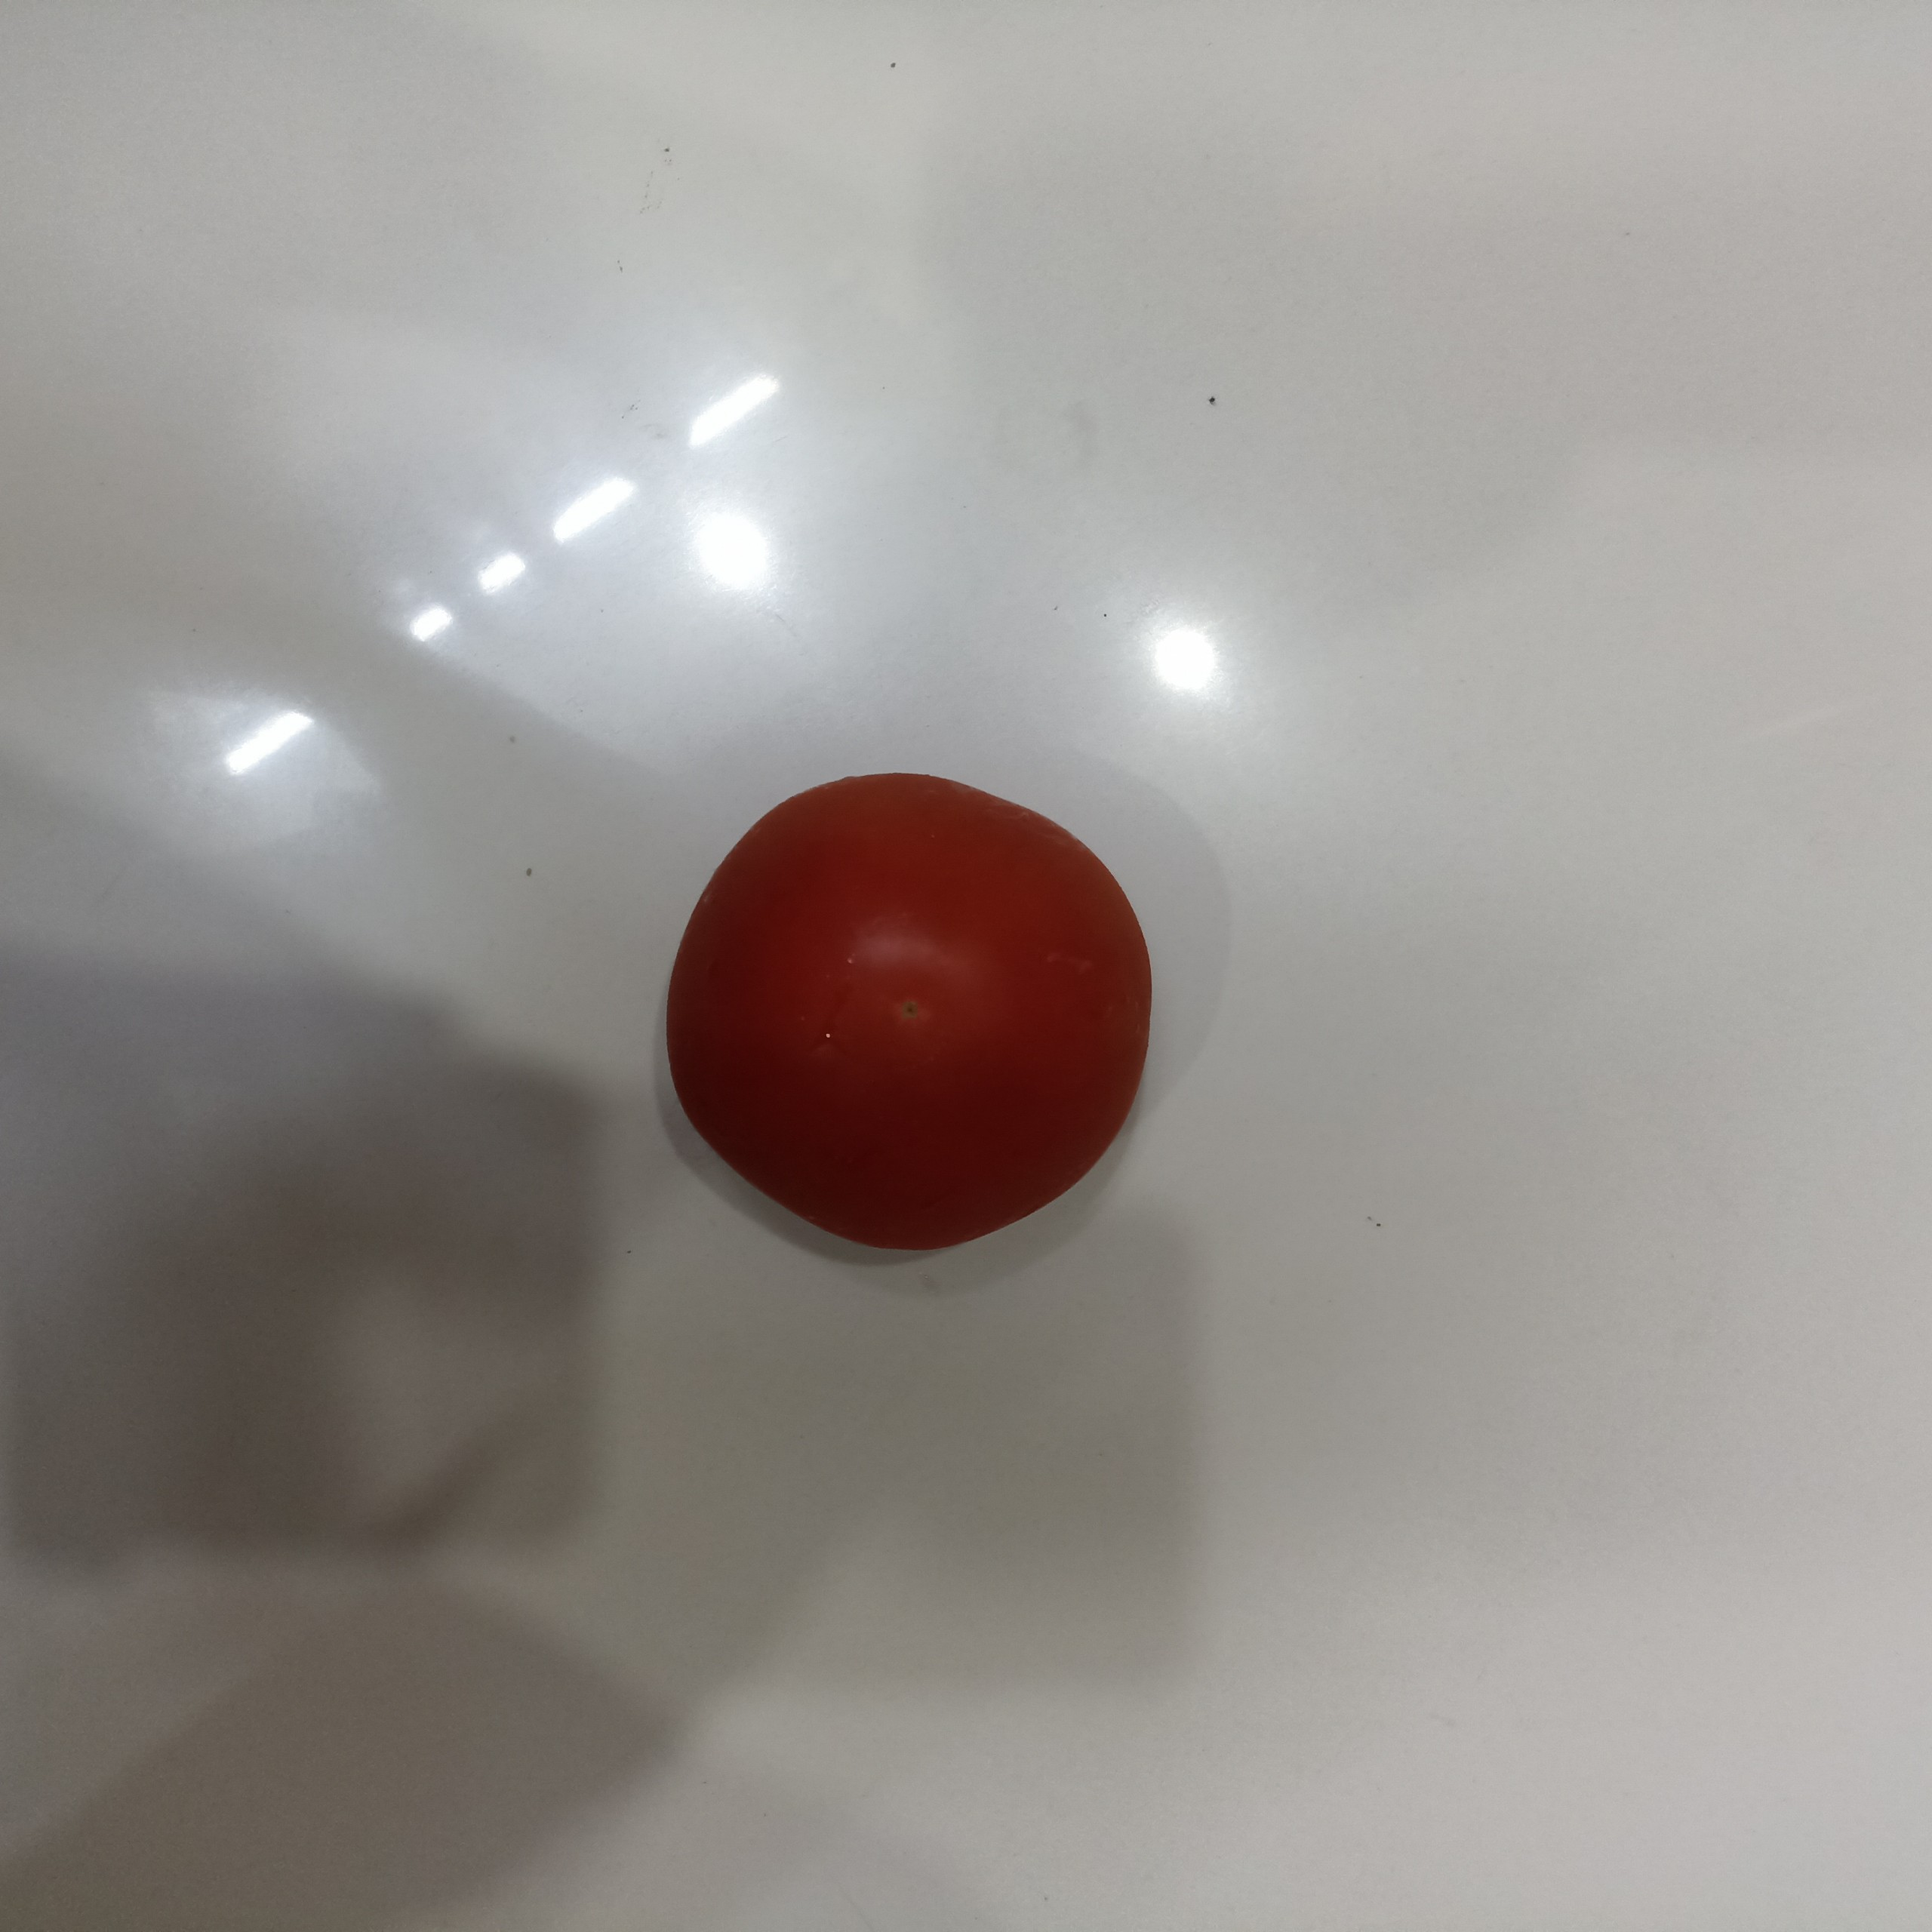Ca chua: (667, 774, 1153, 1250)
